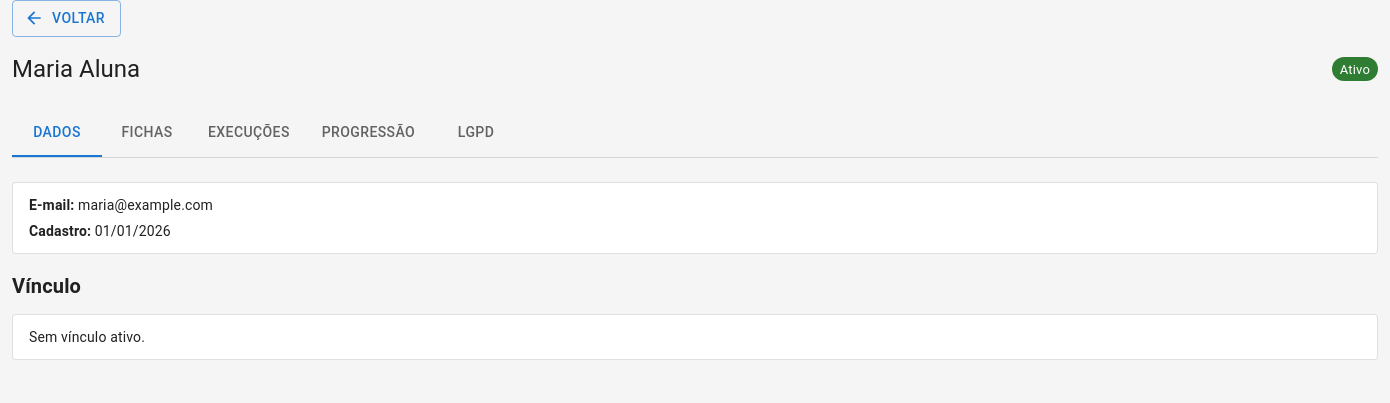
DetalheAlunoAdminPage — aba Progressão › sem execuções no período mostra o EmptyState
The image size is (1390, 403).
Click the tab "Progressão".
click(368, 132)  # box [306,108,431,156]
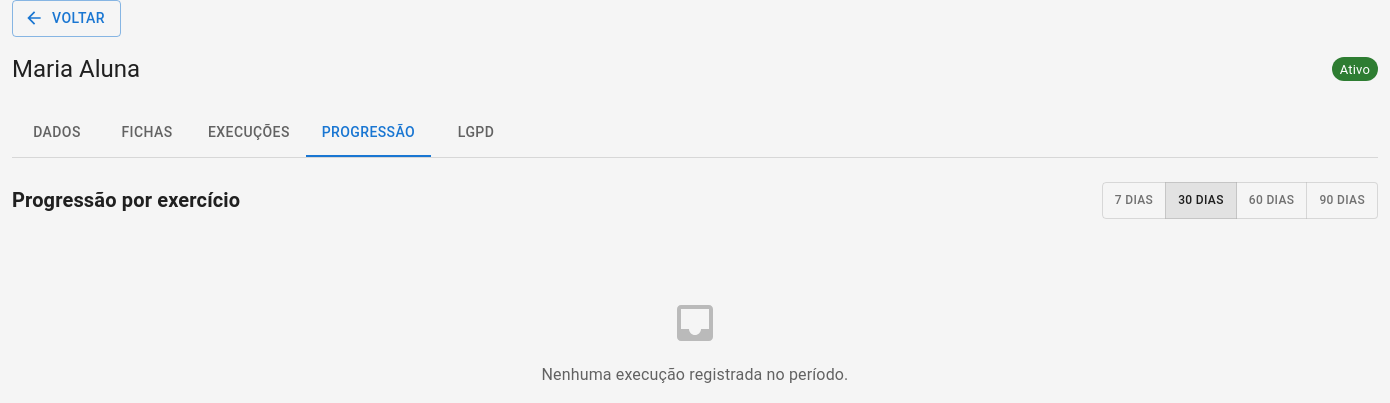
Expected: the text "Nenhuma execução registrada no período." is shown, [542,362,848,386]
